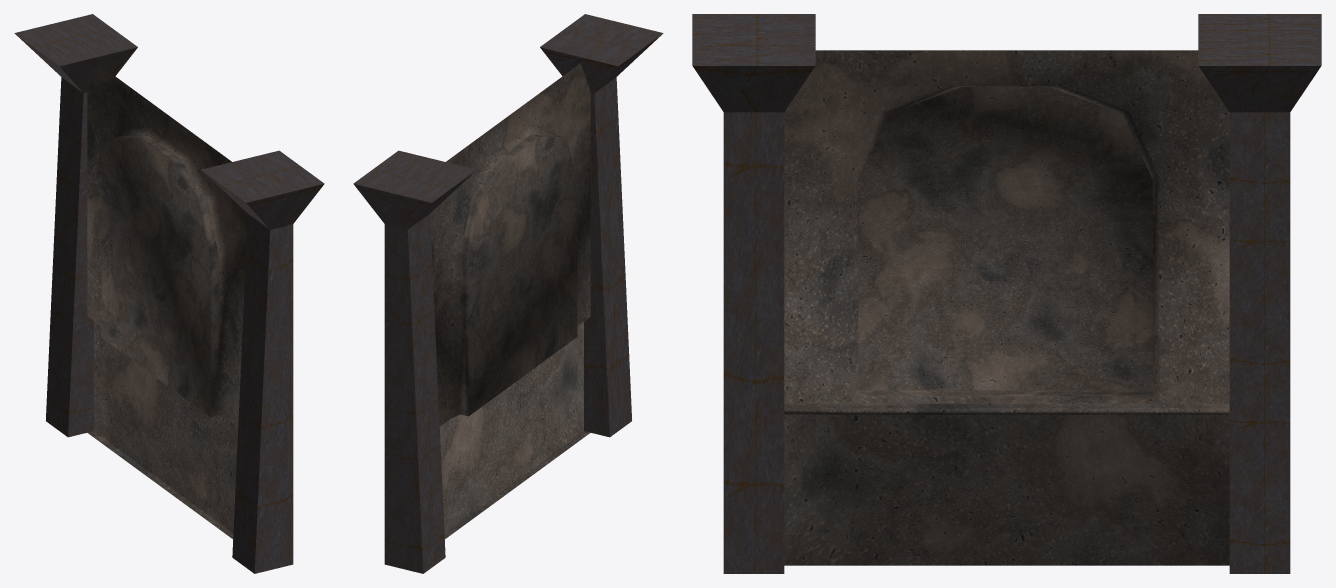
File: WallwPillars.fbx
3 renders of one model, left to right at view 1: azimuth 30°, elevation 25°; view 2: azimuth 150°, elevation 25°; view 3: azimuth 270°, elevation 25°, orthographic. The views are drawn at different scales.
Parts seen in each view (by area): view 1: Plane.004; view 2: Plane.004; view 3: Plane.004.
Part boxes in pixels (x1=…): Plane.004: x1=14, y1=14, x2=324, y2=573; Plane.004: x1=353, y1=14, x2=663, y2=573; Plane.004: x1=692, y1=14, x2=1321, y2=573.
Size of the model in its own units: 254 by 1189 by 1300.
